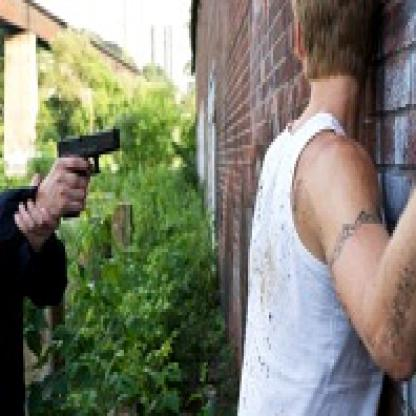gun: (46, 120, 128, 214)
